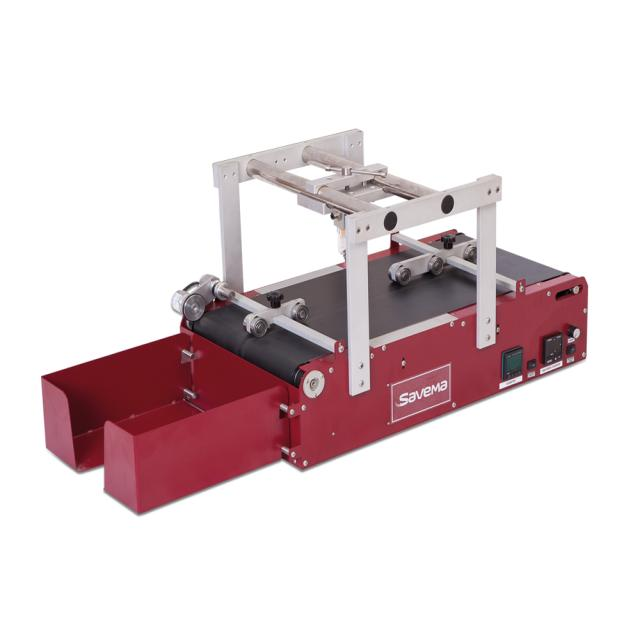conveyor: (37, 123, 593, 517)
